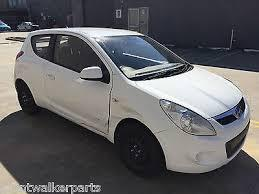fender-dent: (113, 83, 157, 127)
